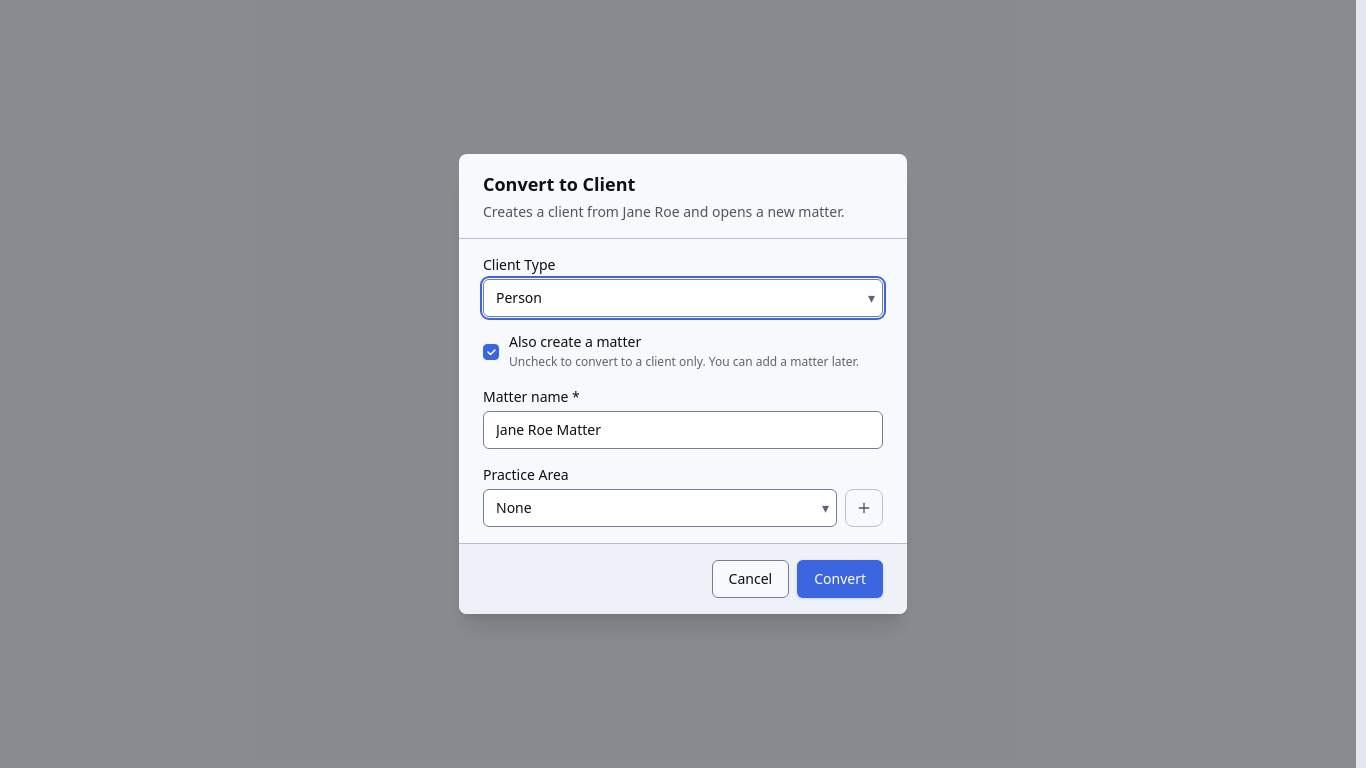
Test: describes an organization conversion in organization terms
Click the button named "Client Type" at point(519, 298), box 483,279 -> 883,317
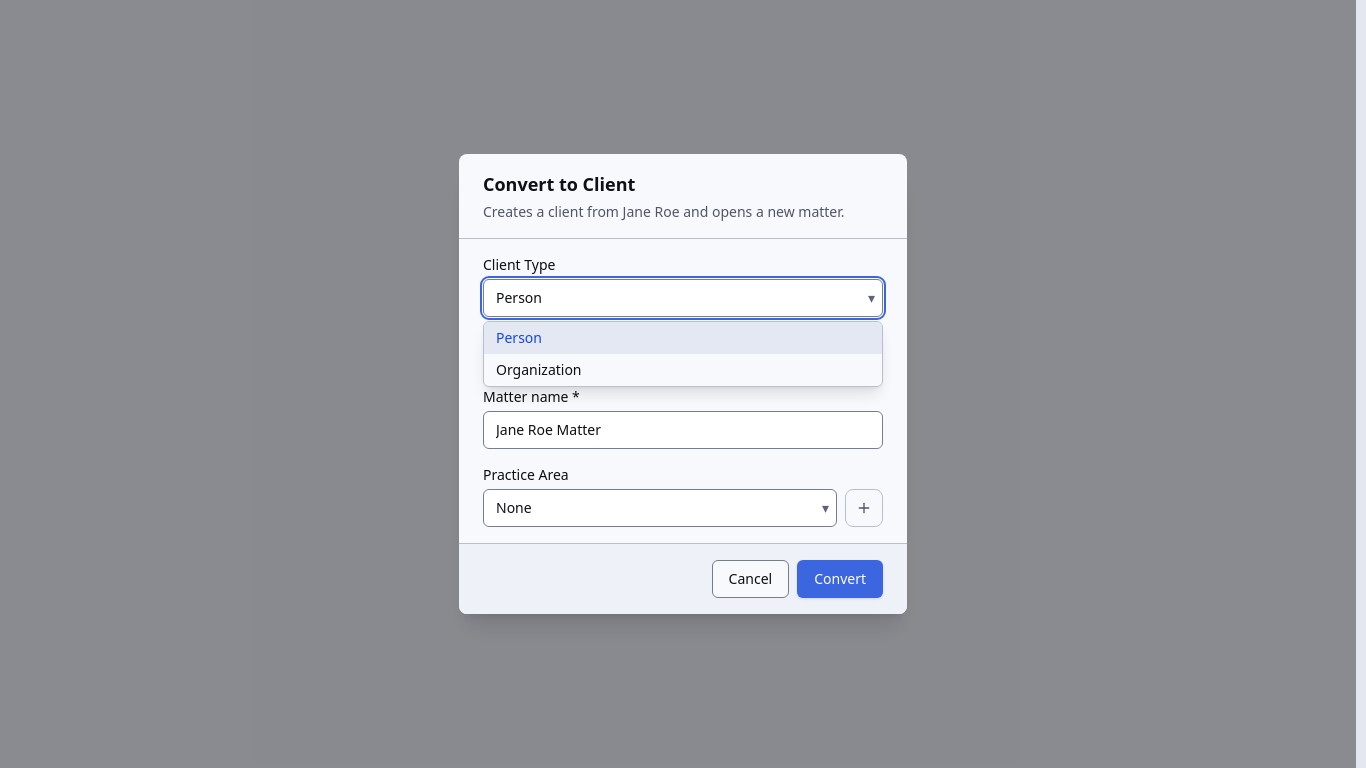
Click the option "Organization" at point(539, 370), box 496,360 -> 582,379
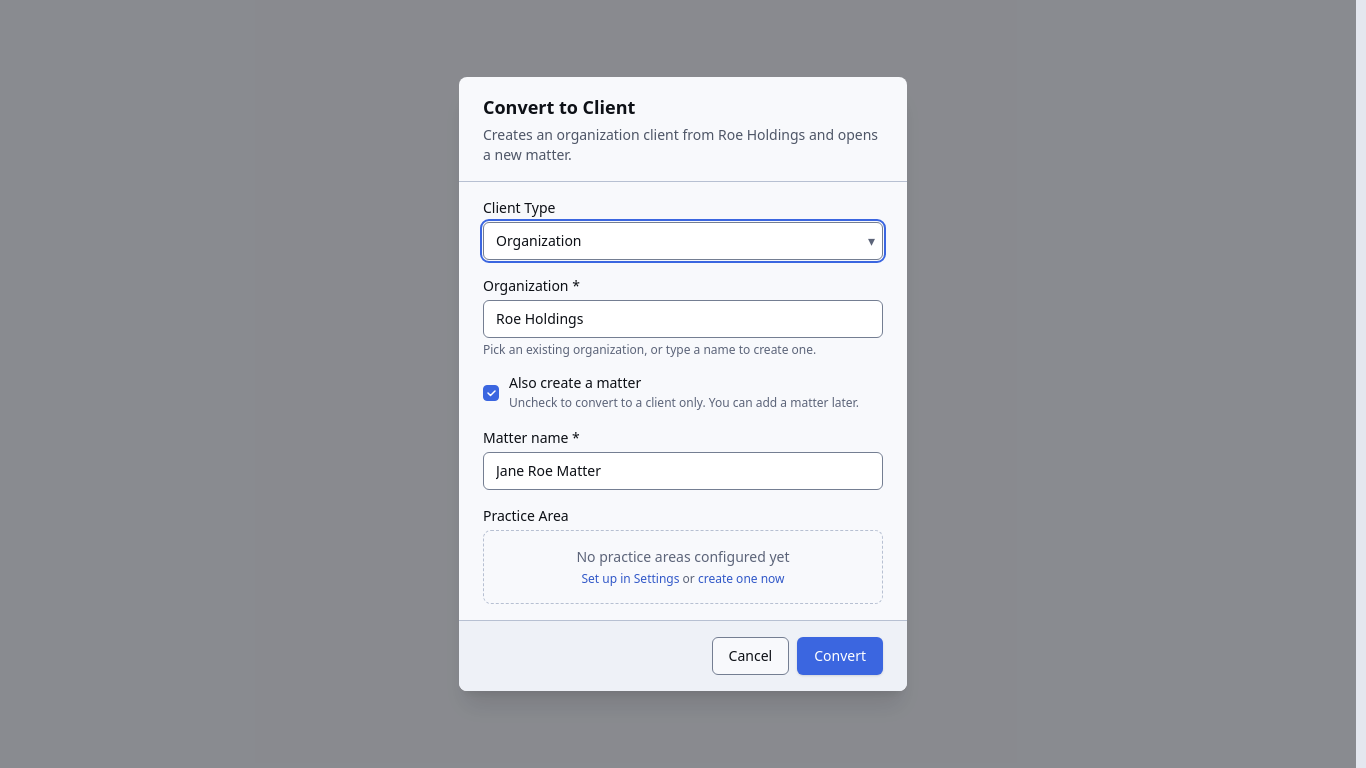
Expected: the text "Creates an organization client from Roe Holdings" is shown, 483,125 -> 805,144
Expected: the dropdown labelled "Organization" holds "Roe Holdings", 483,300 -> 883,338
